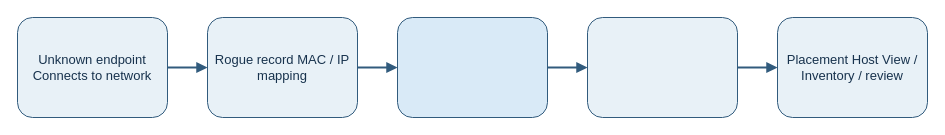
The diagram is 945 pixels wide and 135 high, and some of its shapes have lost their labels. The box of each missing label's shape, as (x1, y1, x2, y2) in pixels:
Evaluation result Pass / Fail / Cannot Evaluate: (586, 16, 738, 118)
Ranked rules OUI / DHCP / SNMP / TCP: (396, 16, 548, 118)
